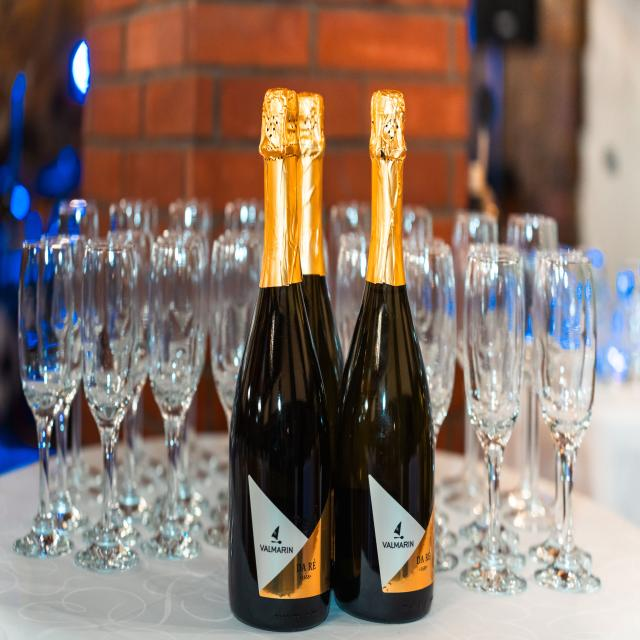Bottle: (229, 89, 330, 631), (334, 91, 435, 622), (298, 93, 344, 476)
